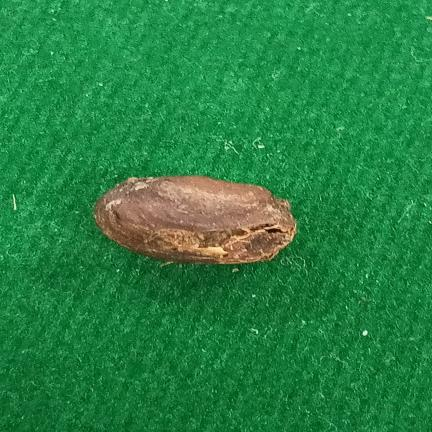husk: (94, 176, 296, 264)
